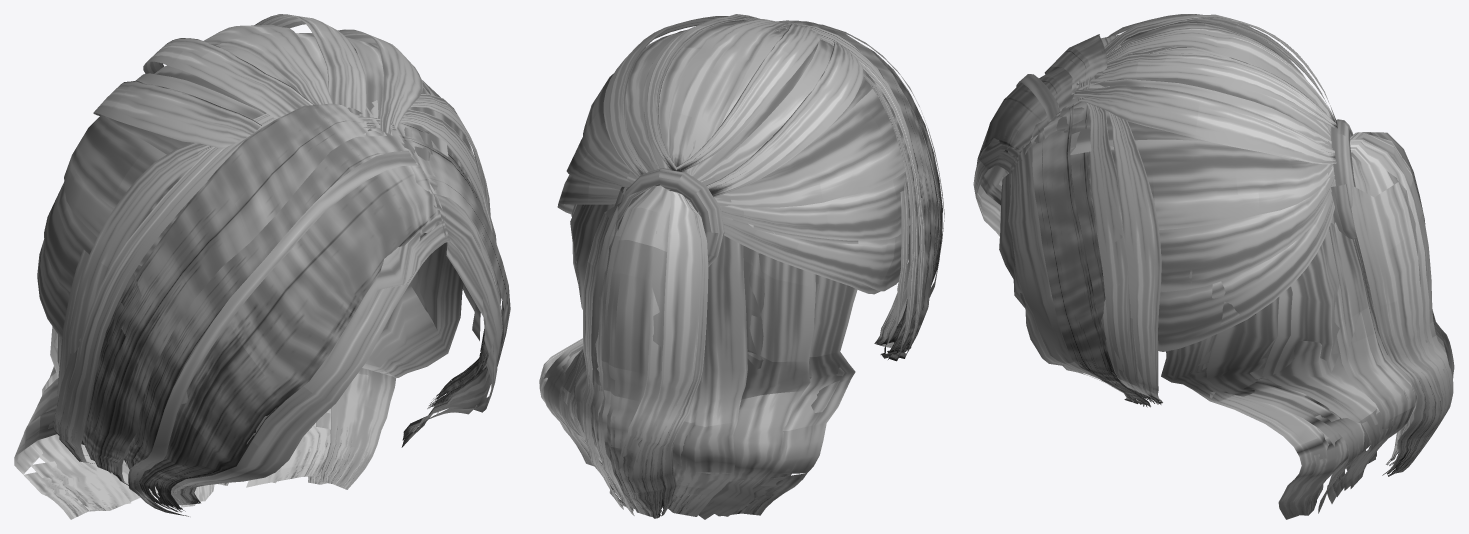
File: daz_hair_halfup_princess.glb
The picture shows the model from 3 angles, left to right: view 1: azimuth 30°, elevation 25°; view 2: azimuth 150°, elevation 25°; view 3: azimuth 270°, elevation 25°; orthographic projection. The views are drawn at different scales.
Visible parts, largest first — view 1: daz_hair_halfup_princess; view 2: daz_hair_halfup_princess; view 3: daz_hair_halfup_princess.
Boxes of the visible parts, bbox=[...] form: daz_hair_halfup_princess: bbox=[14, 14, 510, 519]; daz_hair_halfup_princess: bbox=[539, 14, 944, 519]; daz_hair_halfup_princess: bbox=[973, 14, 1454, 519].
Size of the model in its own units: 0.1998 by 0.2451 by 0.2454.
1 material, 1 textured.
